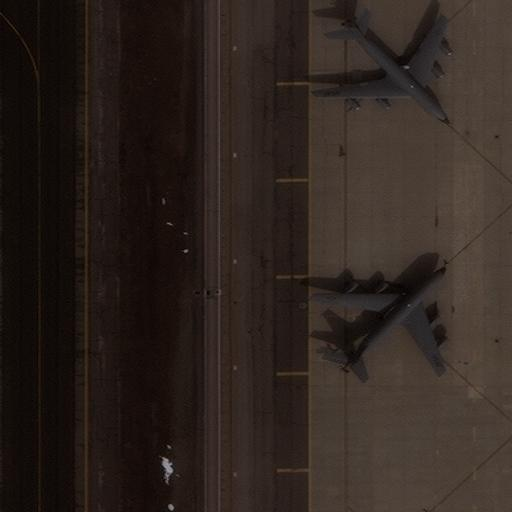Military Transport: (316, 19, 449, 123), (314, 267, 447, 370)
